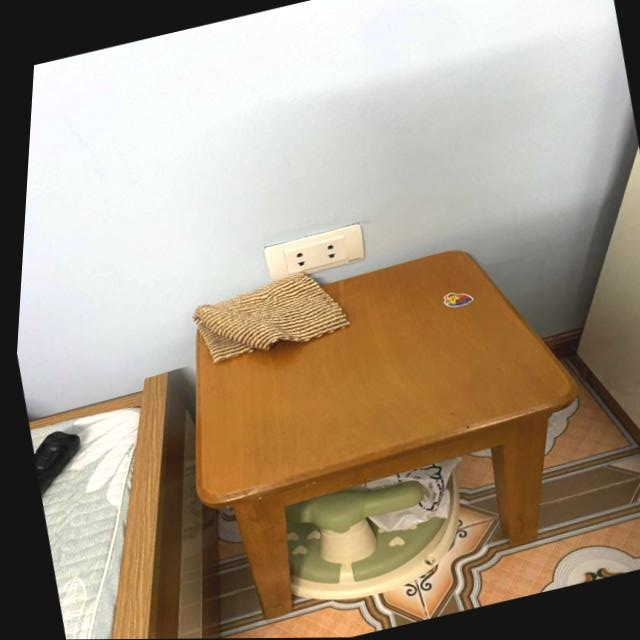outlet: (259, 224, 369, 286)
